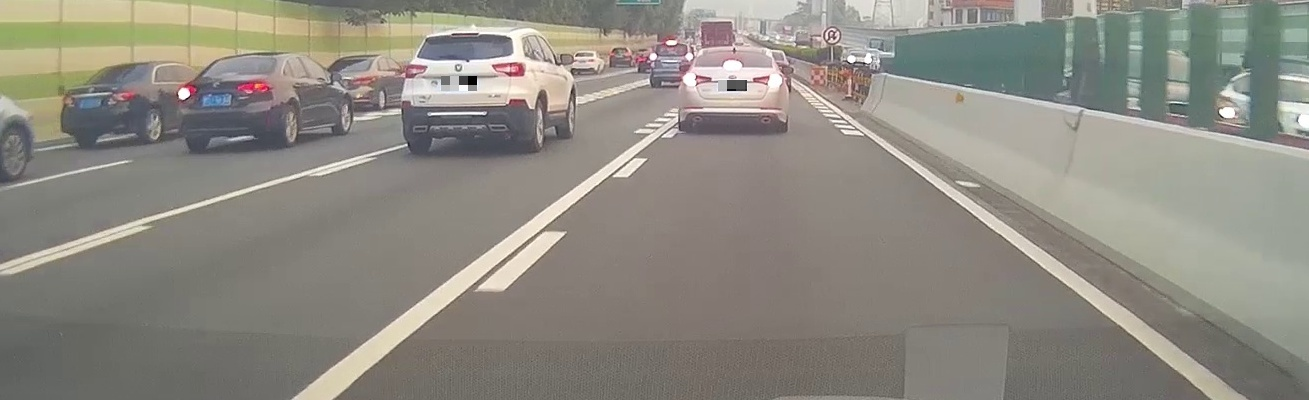L_light: (403, 62, 429, 79), (682, 73, 712, 86), (178, 85, 197, 100), (62, 96, 75, 107)
R_light: (492, 61, 527, 77), (237, 81, 272, 93), (753, 73, 782, 86), (109, 92, 135, 103)
T_light: (451, 32, 479, 37), (723, 62, 743, 67), (223, 71, 239, 74), (114, 68, 124, 71)
day-brake: (676, 46, 790, 132)
day-left: (175, 52, 283, 151)
day-no: (402, 25, 531, 154), (60, 60, 154, 148)
plate_1: (441, 76, 477, 91)
plate_2: (718, 80, 747, 91)
